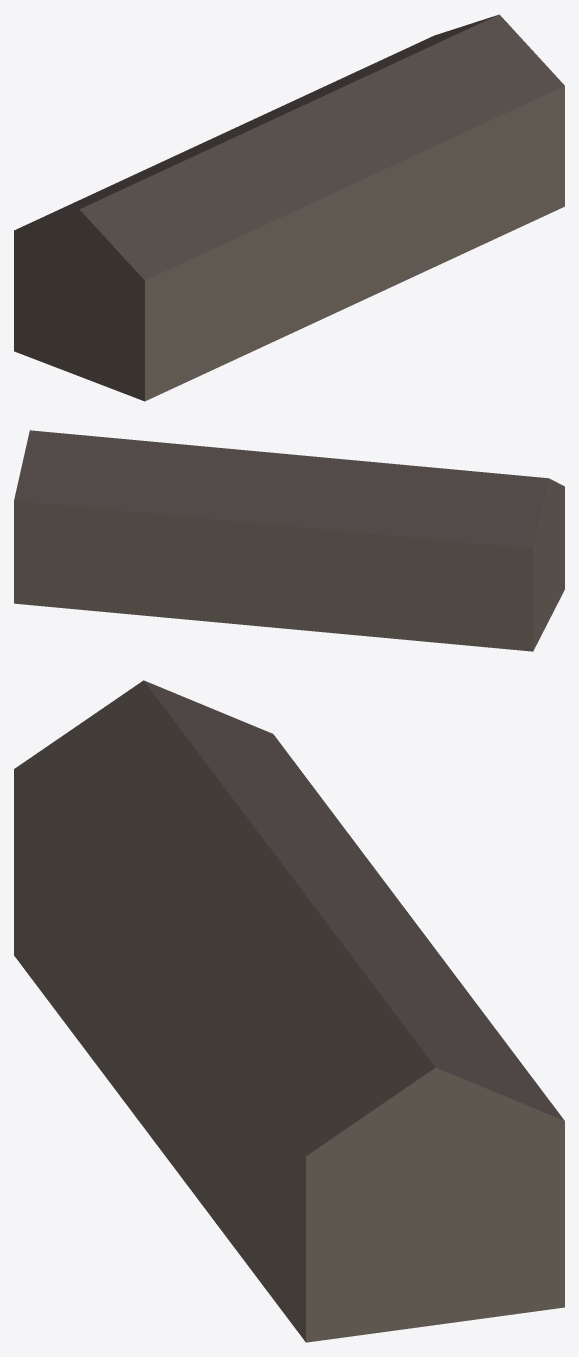
3 views of the same model, one above another, from view 1: azimuth 30°, elevation 25°; view 2: azimuth 150°, elevation 25°; view 3: azimuth 270°, elevation 25° (orthographic). The views are drawn at different scales.
Visible parts, largest first — view 1: HP-w1435252826; view 2: HP-w1435252826; view 3: HP-w1435252826.
Boxes of the visible parts, <box> form: HP-w1435252826: <box>14,14,564,401</box>; HP-w1435252826: <box>14,430,564,651</box>; HP-w1435252826: <box>14,680,564,1342</box>.
Bounding box in the file's own units: 29.19 × 8.3 × 16.09.
